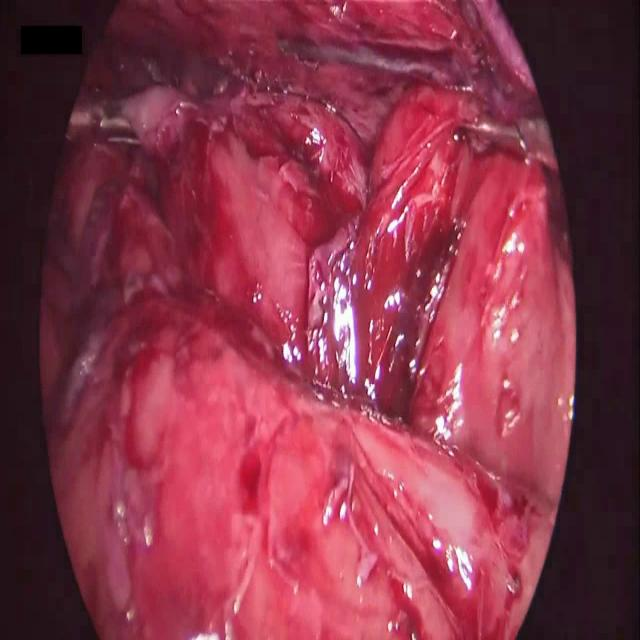surgical-area: (38, 0, 580, 639)
